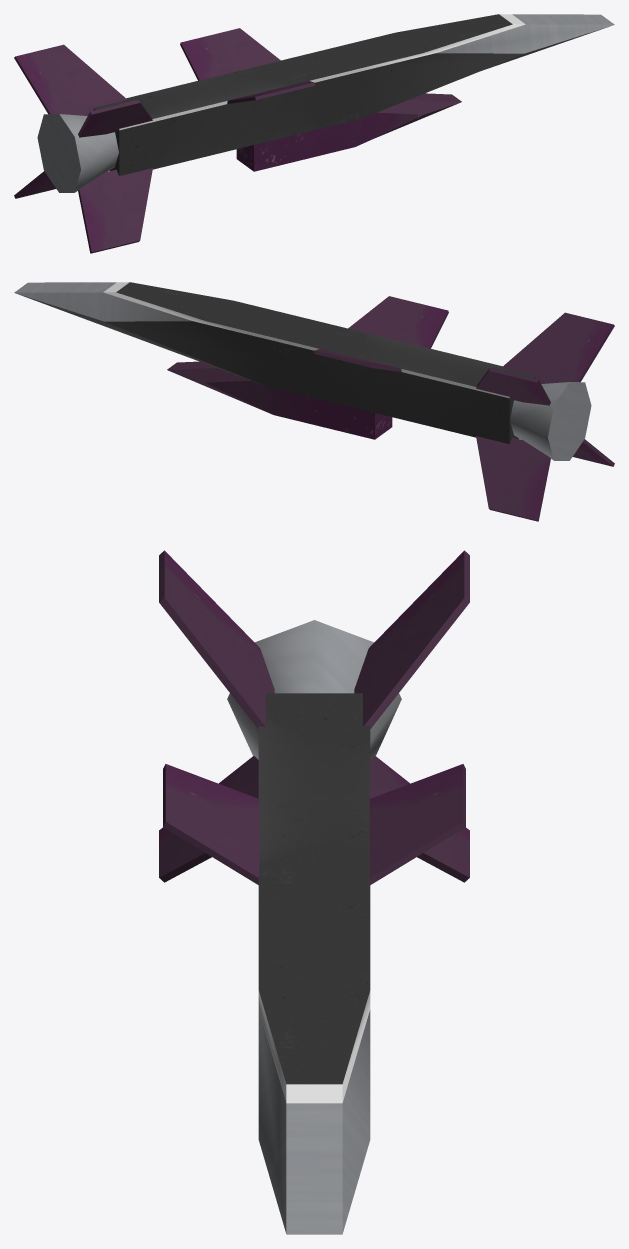
Rendered from Centipede Missile1.fbx.
3 renders of one model, top to bottom at view 1: azimuth 30°, elevation 25°; view 2: azimuth 150°, elevation 25°; view 3: azimuth 270°, elevation 25°, orthographic. The views are drawn at different scales.
Visible parts, largest first — view 1: Cube.001, Cube.004; view 2: Cube.001, Cube.004; view 3: Cube.001, Cube.004.
Part boxes in pixels (box(x1,y1,x2,y2)): Cube.001: box(14, 14, 614, 253); Cube.004: box(119, 14, 525, 130); Cube.001: box(14, 282, 614, 521); Cube.004: box(103, 282, 509, 398); Cube.001: box(159, 550, 469, 1234); Cube.004: box(258, 991, 370, 1103).
Size of the model in its own units: 536 by 131 by 130.
